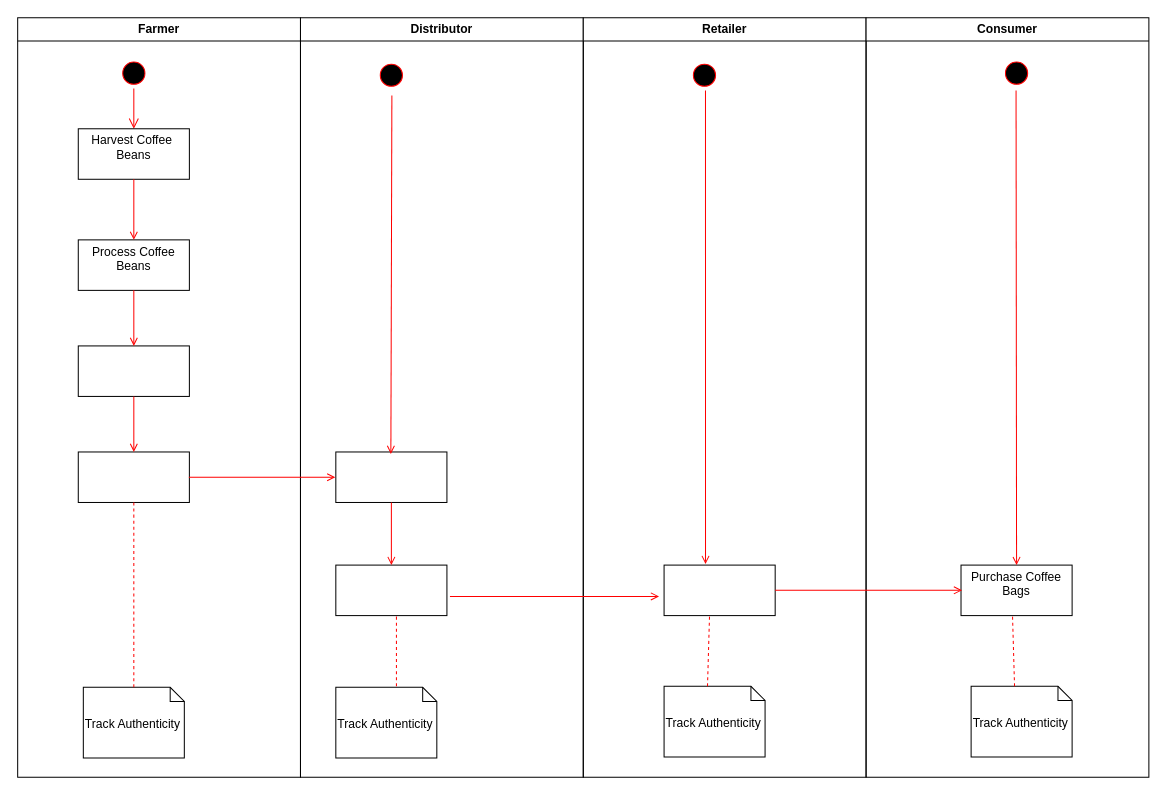
Image size: 1167x795. Some labels were removed from this diagram. The centre of each missing label's shape, as x and y in pixels:
Buy Coffee Bags/ Palettes: the point at 391,476
Pack Coffee Bags/ Palettes: the point at 133,370
Receive Coffee Bags/Palettes: the point at 719,590
Sell Coffee Bags/ Pallettes: the point at 133,476
Ship Coffee Bags/ Palettes: the point at 391,590
